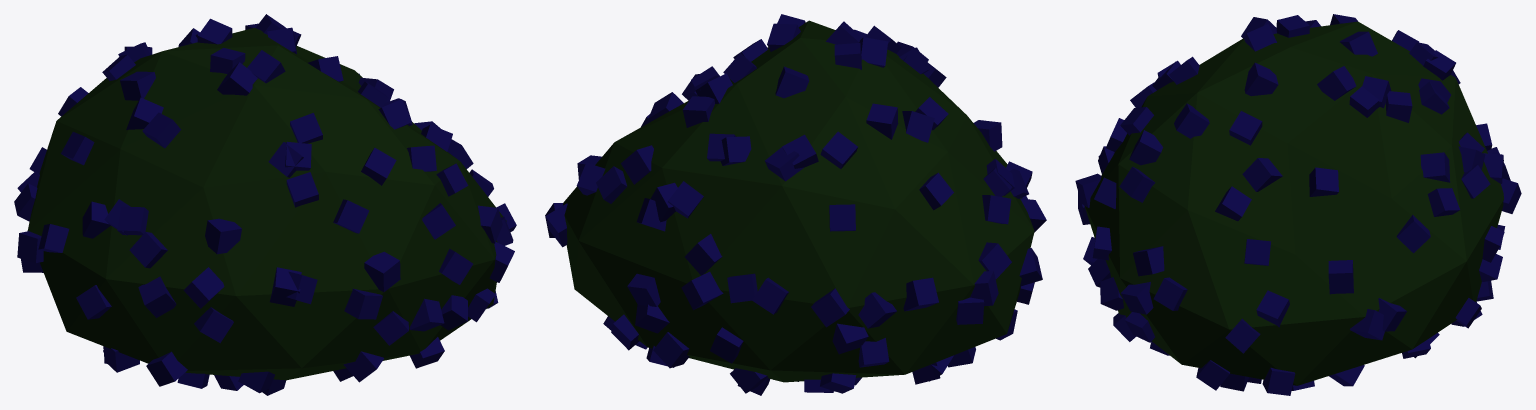
The model's file is s_bush_04.FBX.
The picture shows the model from 3 angles, left to right: view 1: azimuth 30°, elevation 25°; view 2: azimuth 150°, elevation 25°; view 3: azimuth 270°, elevation 25°; orthographic projection. The views are drawn at different scales.
Visible parts, largest first — view 1: s_bush_04, s_berries_04; view 2: s_bush_04, s_berries_04; view 3: s_bush_04, s_berries_04.
Part boxes in pixels (box(x1,y1,x2,y2)): s_bush_04: box(27, 28, 506, 380); s_berries_04: box(14, 14, 516, 395); s_bush_04: box(563, 20, 1034, 382); s_berries_04: box(545, 14, 1046, 395); s_bush_04: box(1084, 21, 1503, 385); s_berries_04: box(1075, 14, 1521, 395).
Size of the model in its own units: 1.04 by 0.7269 by 0.9679.
